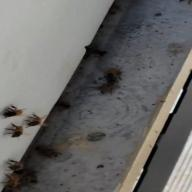Bee: (0, 122, 28, 142), (20, 111, 46, 129), (5, 108, 28, 121), (0, 102, 1, 105)
